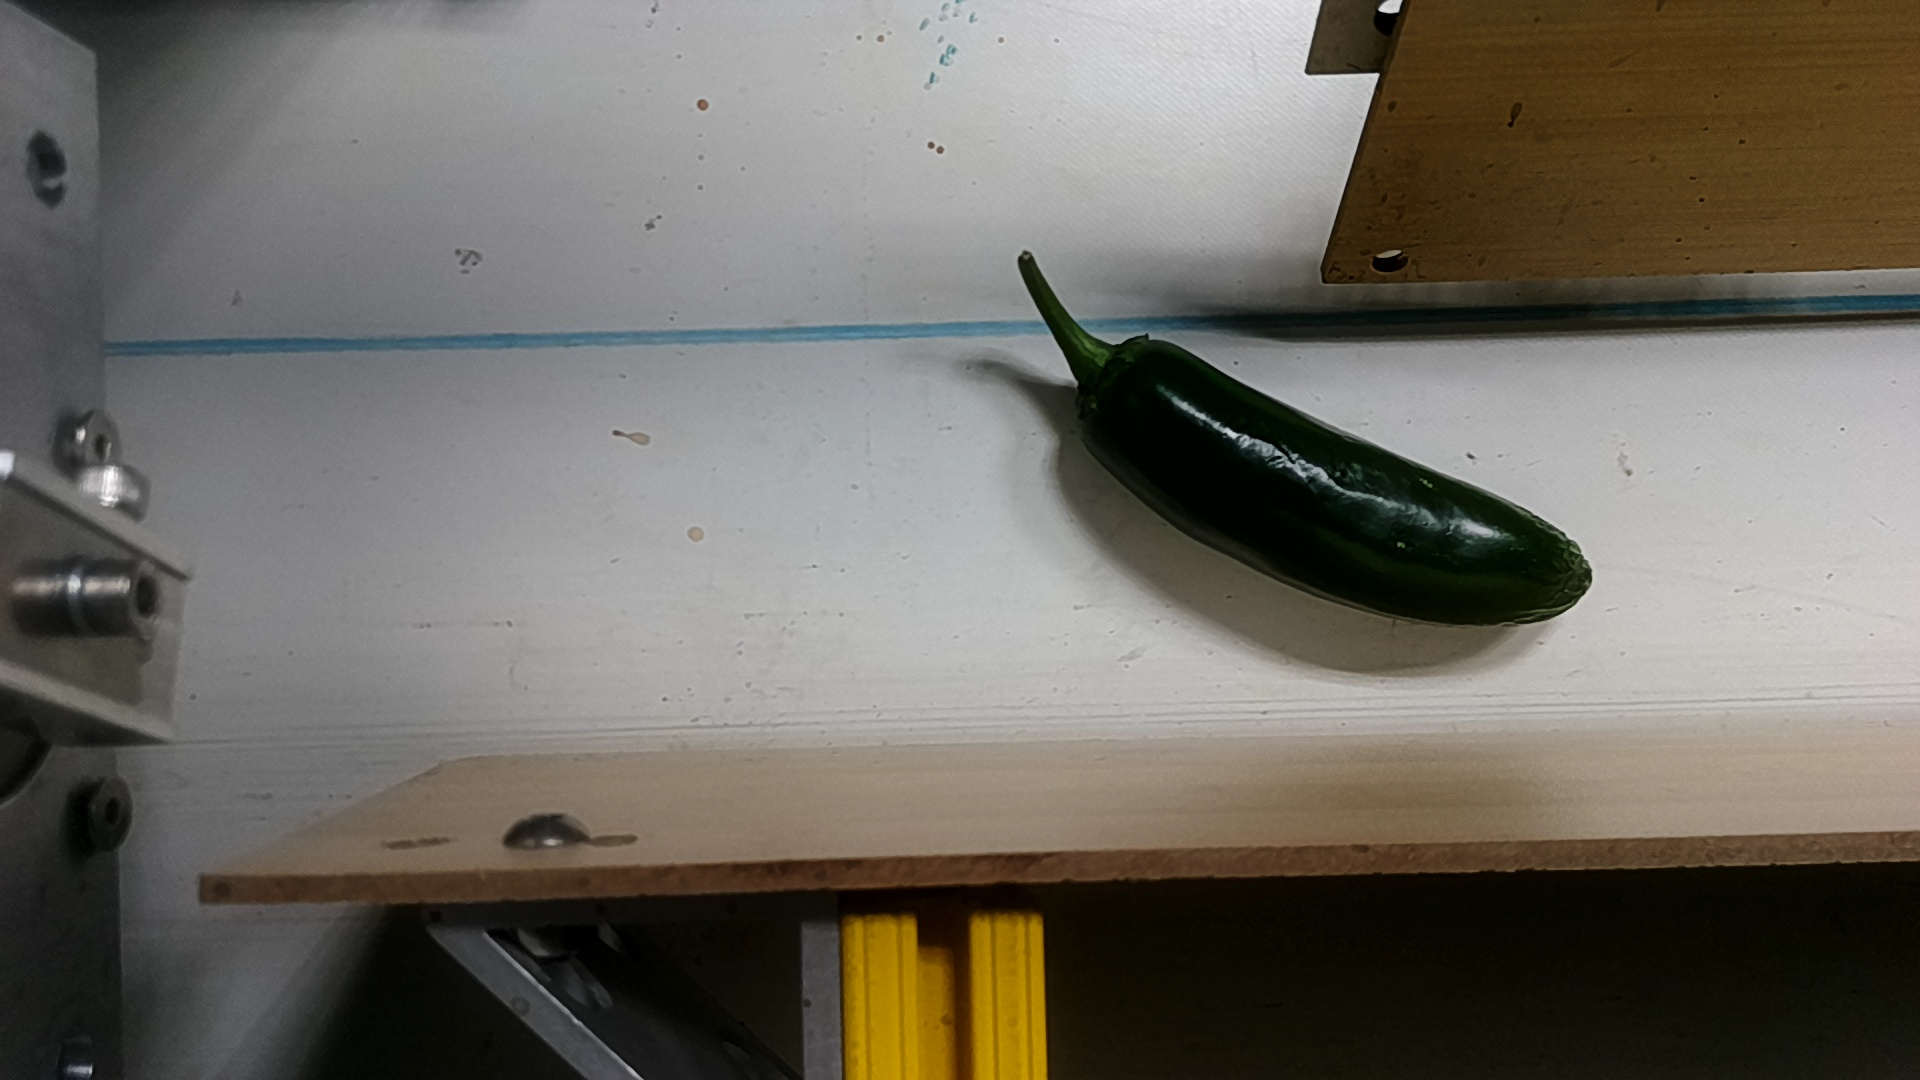Cut Point: (1056, 316, 1178, 460)
